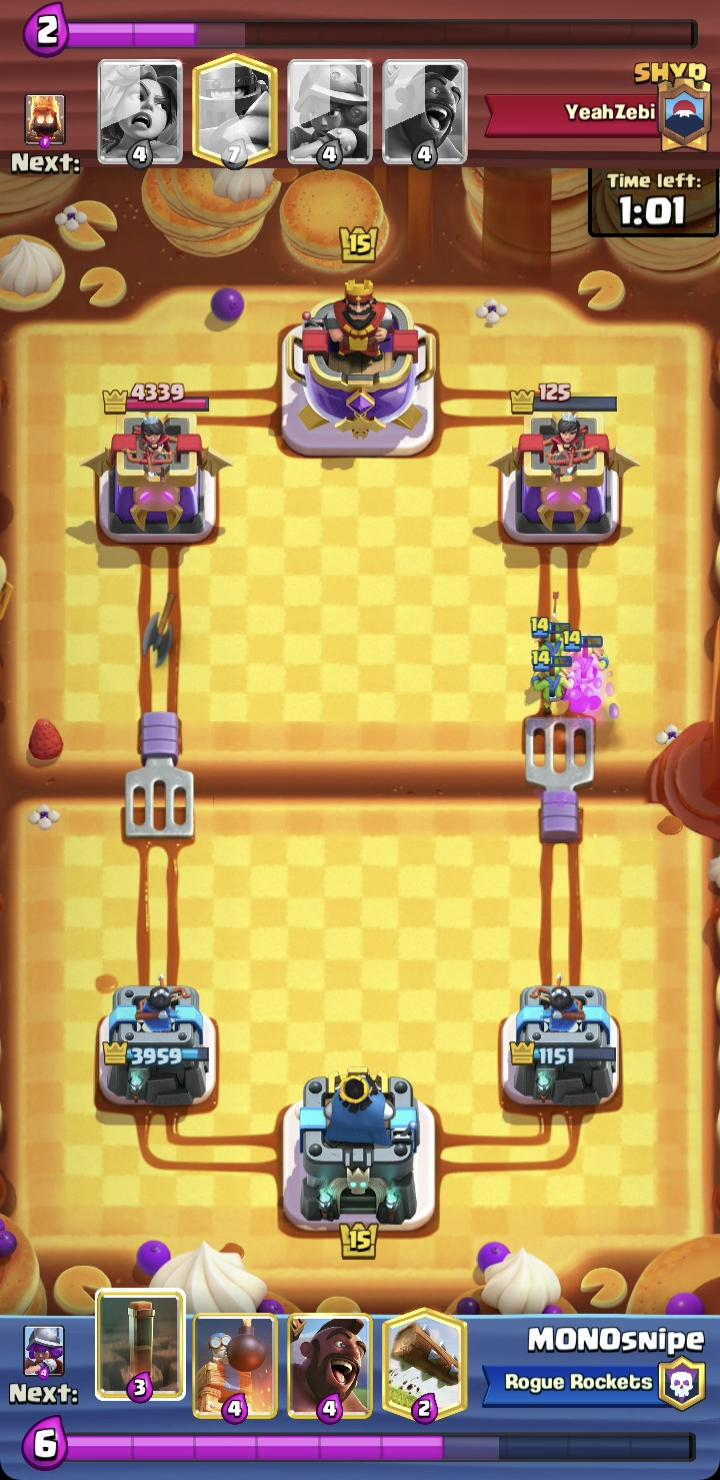ally_goblin: (561, 628, 611, 692), (528, 649, 578, 708), (530, 614, 576, 672)
